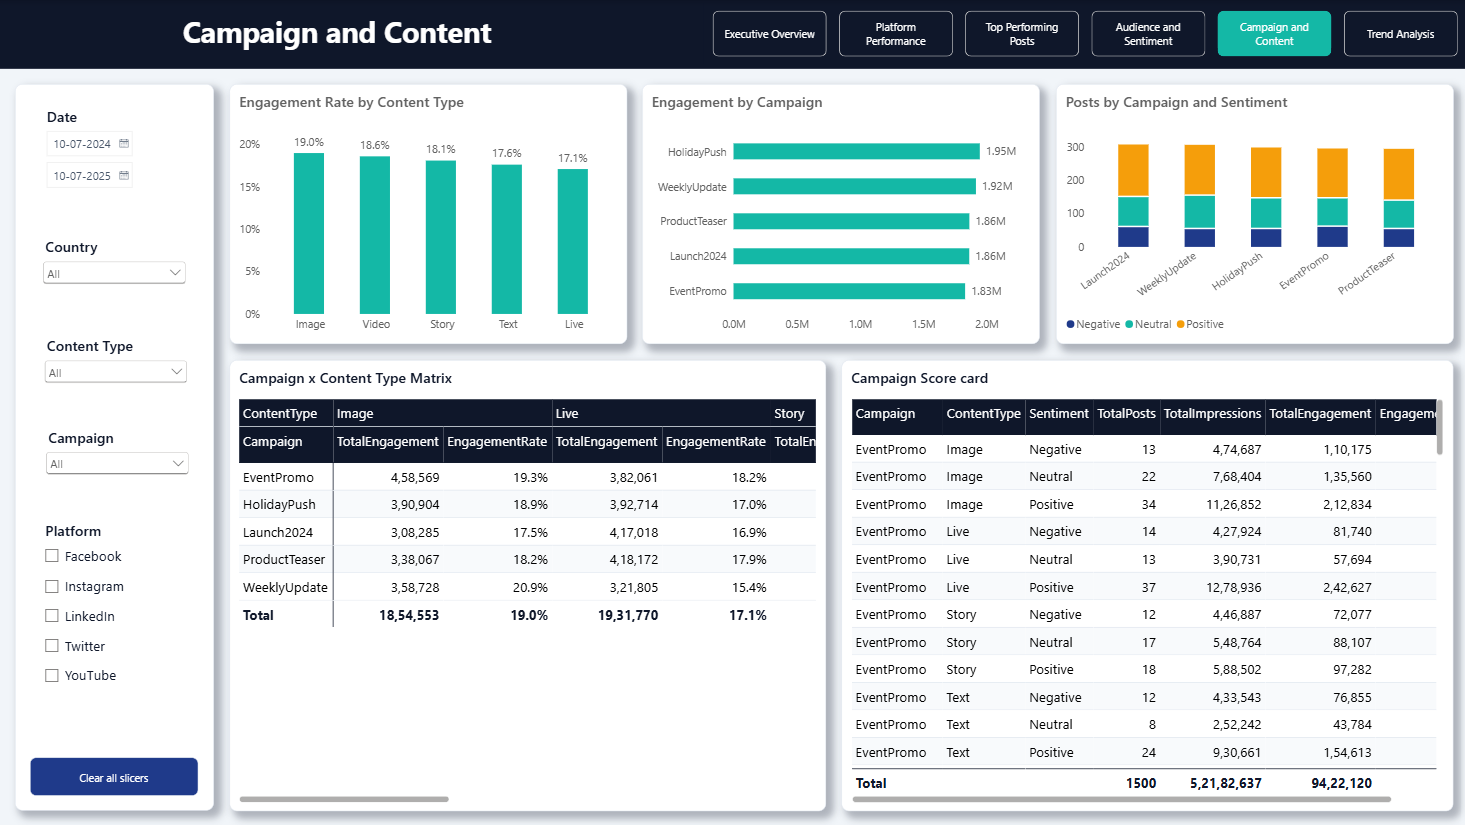

The page's visual inventory and layout, read from the dashboard file:
{"tool":"powerbi","page":{"name":"Campaign and Content","canvas":[1920,1080],"ordinal":4},"visuals":[{"type":"barChart","title":"Engagement by Campaign","fields":{"Category":["SocialMediaInsights.Campaign"],"Y":["SocialMediaInsights.TotalEngagement"]},"box":[840,110,520,340],"z":0},{"type":"columnChart","title":"Engagement Rate by Content Type ","fields":{"Category":["SocialMediaInsights.ContentType"],"Y":["SocialMediaInsights.EngagementRate"]},"box":[300,110,520.1,340],"z":1000},{"type":"pivotTable","title":"Campaign x Content Type Matrix","fields":{"Columns":["SocialMediaInsights.ContentType"],"Rows":["SocialMediaInsights.Campaign"],"Values":["SocialMediaInsights.TotalEngagement","SocialMediaInsights.EngagementRate"]},"box":[300,470,780,590],"z":2000},{"type":"columnChart","title":"Posts by Campaign and Sentiment","fields":{"Category":["SocialMediaInsights.Campaign"],"Series":["SocialMediaInsights.Sentiment"],"Y":["SocialMediaInsights.TotalPosts"]},"box":[1381,110,520,340],"z":3000},{"type":"tableEx","title":"Campaign Score card","fields":{"Values":["SocialMediaInsights.Campaign","SocialMediaInsights.ContentType","SocialMediaInsights.Sentiment","SocialMediaInsights.TotalPosts","SocialMediaInsights.TotalImpressions","SocialMediaInsights.TotalEngagement","SocialMediaInsights.EngagementRate"]},"box":[1100,470,800,590],"z":4000},{"type":"shape","box":[0,0,1920,90],"z":5000},{"type":"textbox","box":[60,6.7,760,76.7],"z":6000},{"type":"pageNavigator","box":[919,4.3,1000,80],"z":7000},{"type":"shape","box":[20,110,260,950],"z":8000},{"type":"slicer","fields":{"Values":["DateTable.Date"]},"box":[40.9,130,218,165.8],"z":9000},{"type":"slicer","fields":{"Values":["SocialMediaInsights.Country"]},"box":[40,300,220,100],"z":10000},{"type":"slicer","fields":{"Values":["SocialMediaInsights.ContentType"]},"box":[40.9,430,220,100],"z":11000},{"type":"slicer","fields":{"Values":["SocialMediaInsights.Campaign"]},"box":[43.2,550,220,100],"z":12000},{"type":"slicer","fields":{"Values":["SocialMediaInsights.Platform"]},"box":[38.6,670,220,250],"z":13000},{"type":"actionButton","box":[40,990,220,50],"z":14000}]}

Visuals, with their boxes in screenshot pixels (x1, y1, x2, y2), scaled from the page's 1920x1080 canvas onto the 1465x825 screenshot:
"Engagement by Campaign" barChart: <box>641,84,1038,344</box>
"Engagement Rate by Content Type " columnChart: <box>229,84,626,344</box>
"Campaign x Content Type Matrix" pivotTable: <box>229,359,824,810</box>
"Posts by Campaign and Sentiment" columnChart: <box>1054,84,1451,344</box>
"Campaign Score card" tableEx: <box>839,359,1450,810</box>
shape: <box>0,0,1464,69</box>
textbox: <box>46,5,626,64</box>
pageNavigator: <box>701,3,1464,64</box>
shape: <box>15,84,214,810</box>
slicer - DateTable.Date: <box>31,99,198,226</box>
slicer - SocialMediaInsights.Country: <box>31,229,198,306</box>
slicer - SocialMediaInsights.ContentType: <box>31,328,199,405</box>
slicer - SocialMediaInsights.Campaign: <box>33,420,201,497</box>
slicer - SocialMediaInsights.Platform: <box>29,512,197,703</box>
actionButton: <box>31,756,198,794</box>
